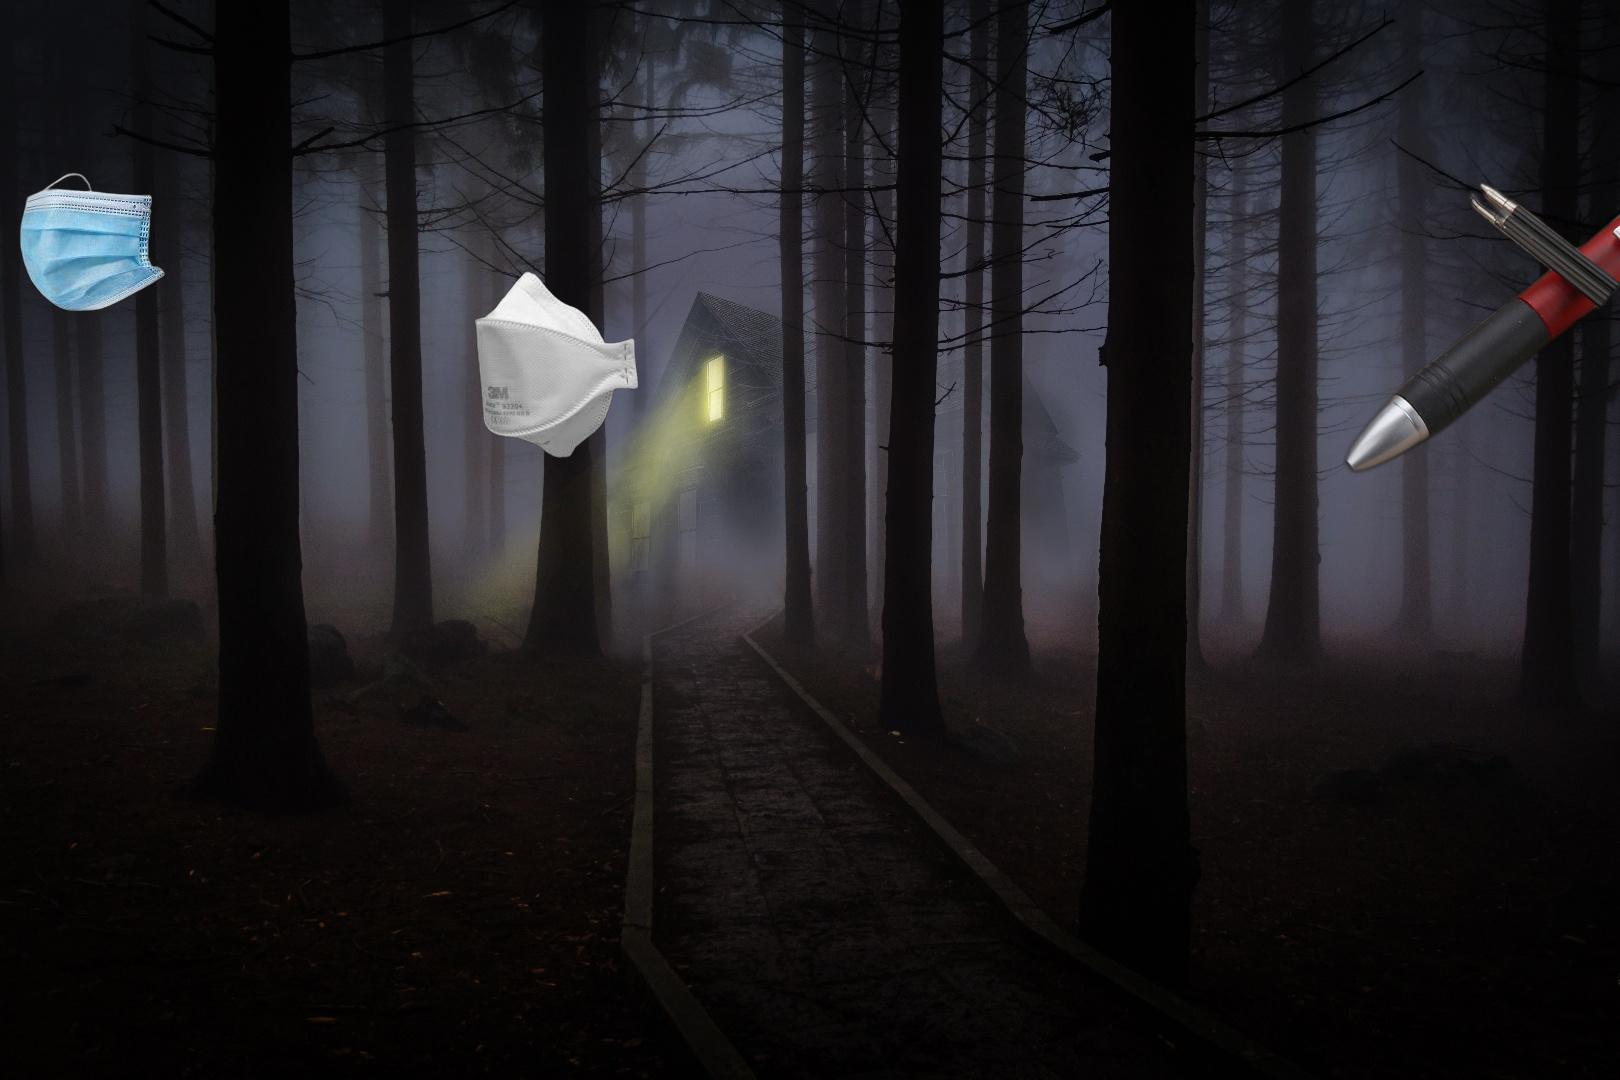glass: (1480, 828, 1620, 1080)
penholder: (1269, 64, 1620, 577)
trash: (475, 241, 708, 458), (17, 170, 168, 315)
